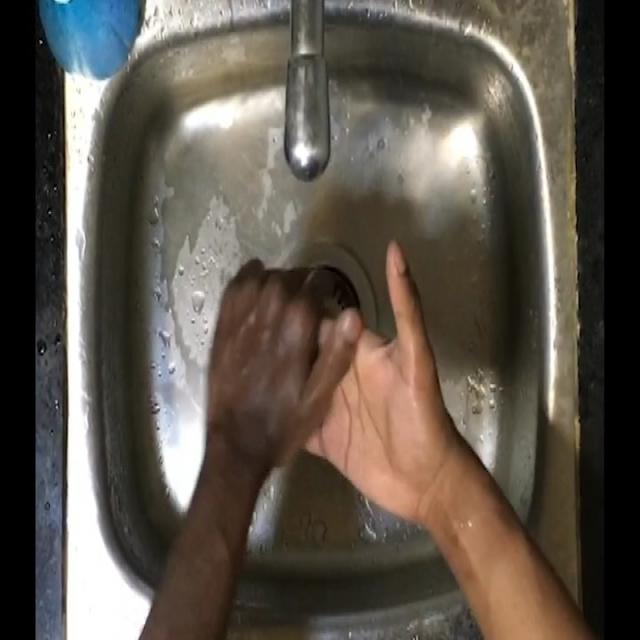step_5: (199, 243, 438, 515)
